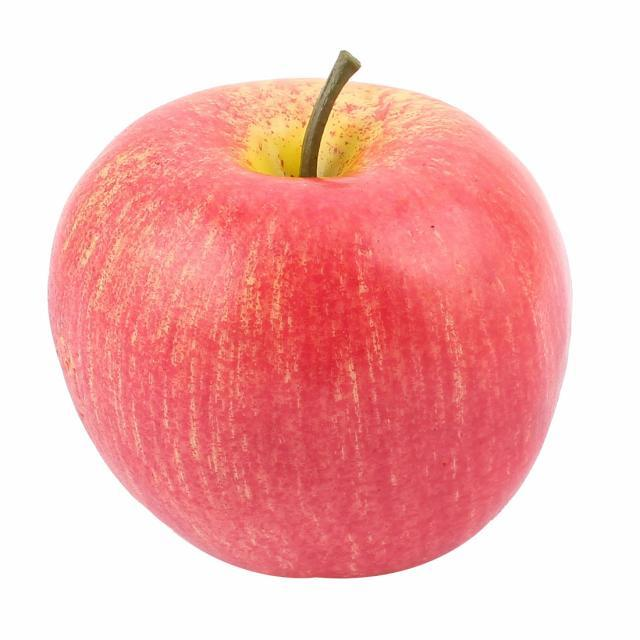Apple: (39, 46, 574, 576)
